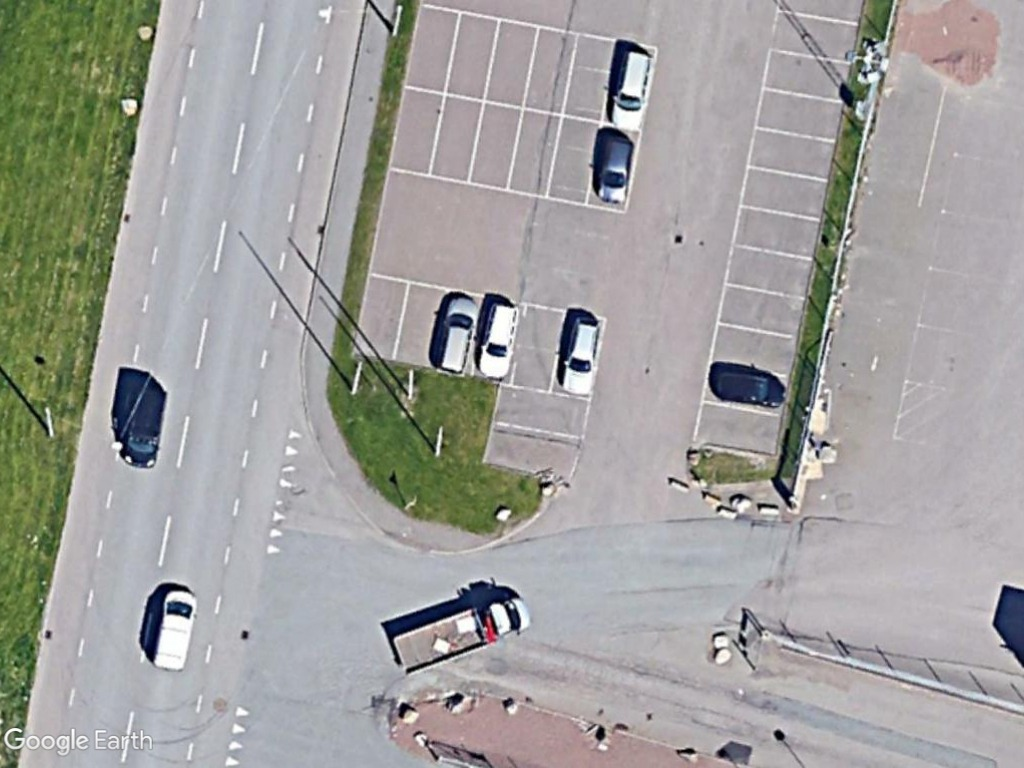car: (605, 44, 659, 136), (468, 298, 523, 385), (555, 309, 608, 399), (431, 289, 481, 384), (119, 382, 167, 471), (707, 363, 790, 412), (589, 128, 639, 206)
other: (382, 593, 530, 679)
van: (147, 578, 206, 677)
